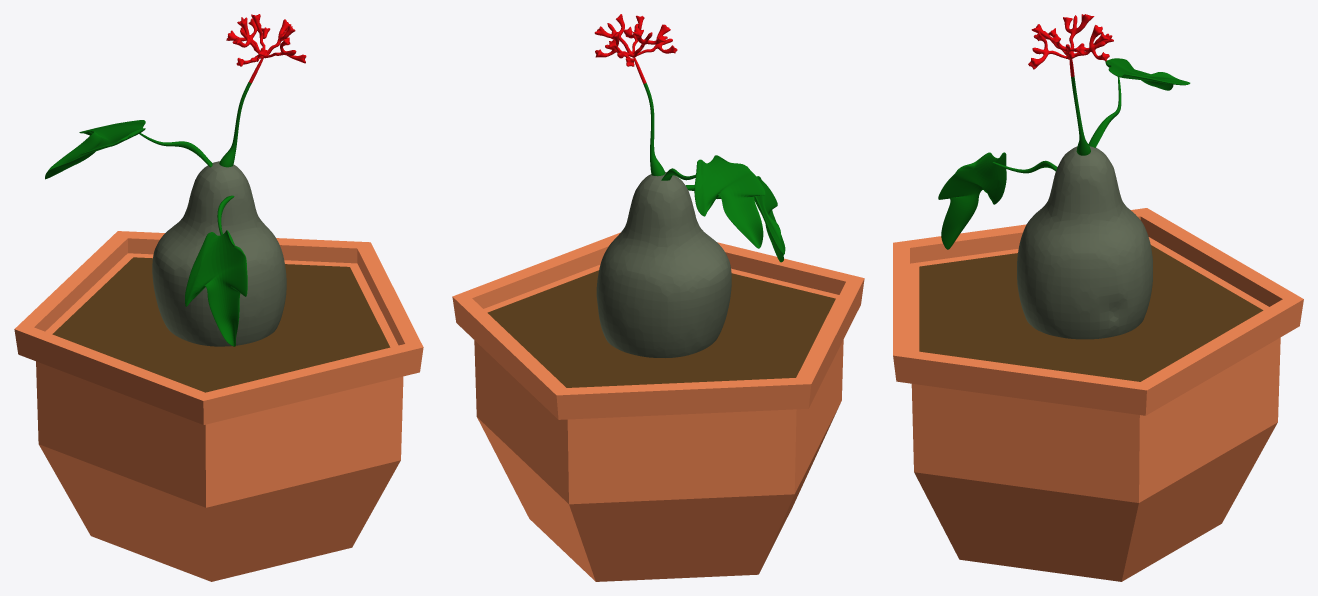
The model's file is Jatrofa.fbx.
3 renders of one model, left to right at view 1: azimuth 30°, elevation 25°; view 2: azimuth 150°, elevation 25°; view 3: azimuth 270°, elevation 25°, orthographic. The views are drawn at different scales.
Visible parts, largest first — view 1: Pot.006; view 2: Pot.006; view 3: Pot.006.
Boxes of the visible parts, x1,y1,x2,y2 form: Pot.006: (14,14,423,581); Pot.006: (452,14,864,581); Pot.006: (893,14,1303,581).
Size of the model in its own units: 73.01 by 97.31 by 69.44.
